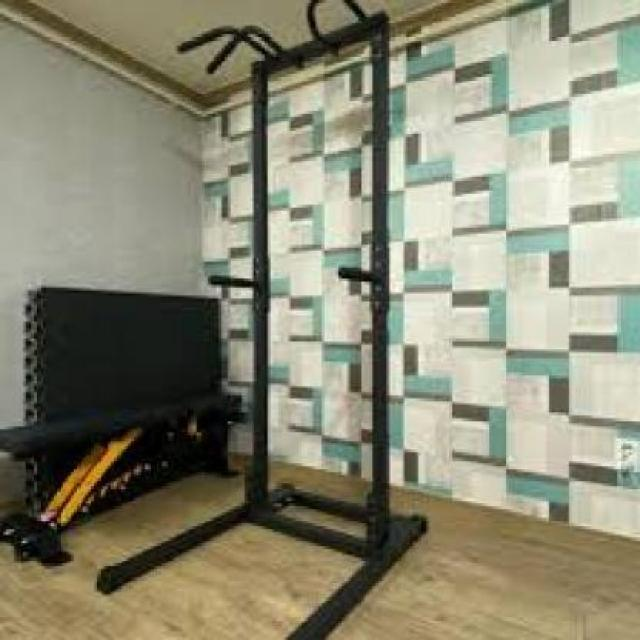chinning dipping: (177, 1, 431, 640)
